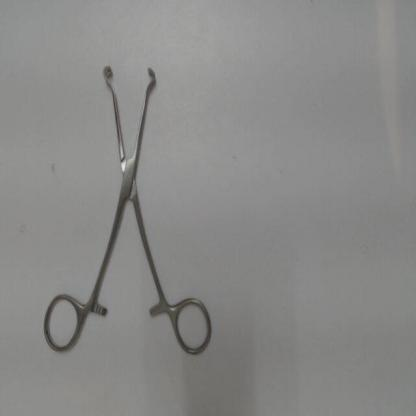Babcock Tissue Forceps: (40, 61, 222, 363)
